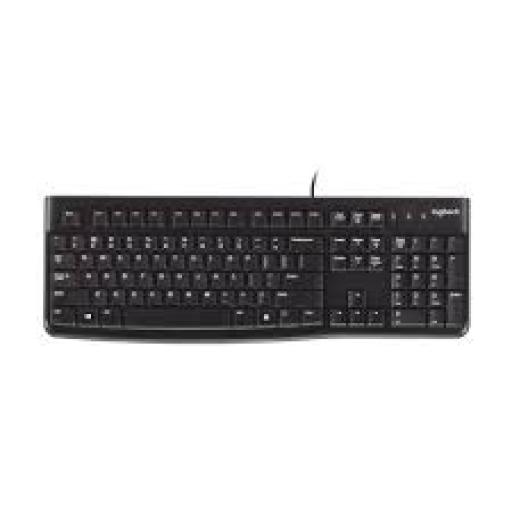KEYBOARD-2: (43, 191, 466, 335)
